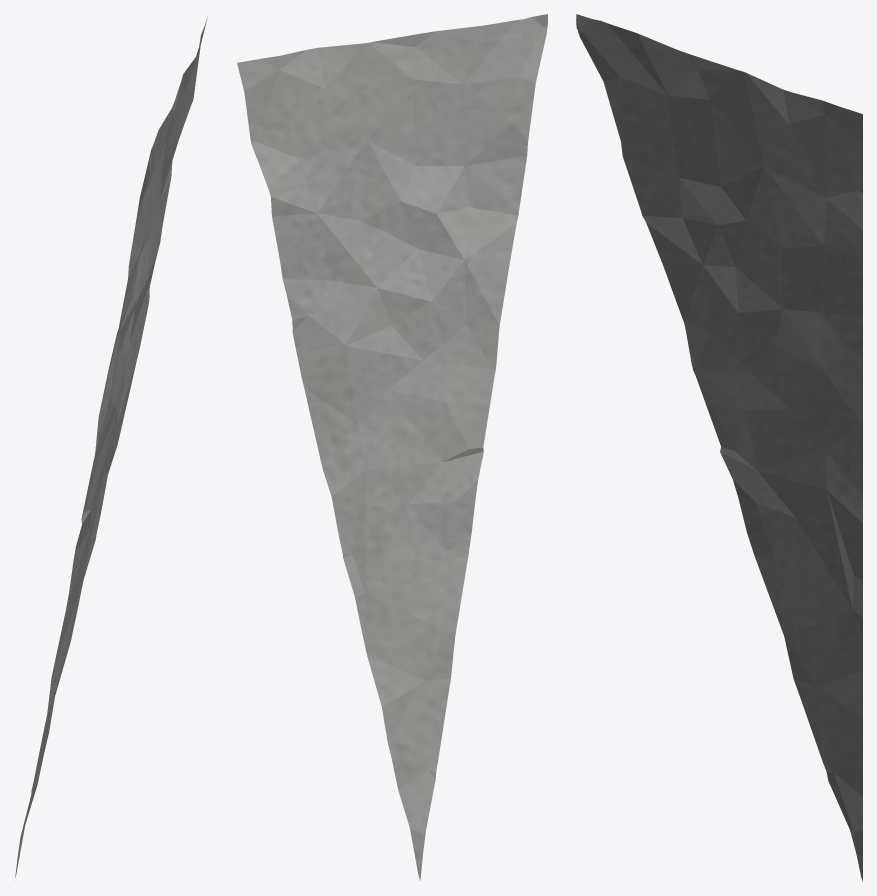
The picture shows the model from 3 angles, left to right: view 1: azimuth 30°, elevation 25°; view 2: azimuth 150°, elevation 25°; view 3: azimuth 270°, elevation 25°; orthographic projection. The views are drawn at different scales.
Size of the model in its own units: 0.1786 by 0.7219 by 0.2161.
Materials: 1 (1 with a texture image).
